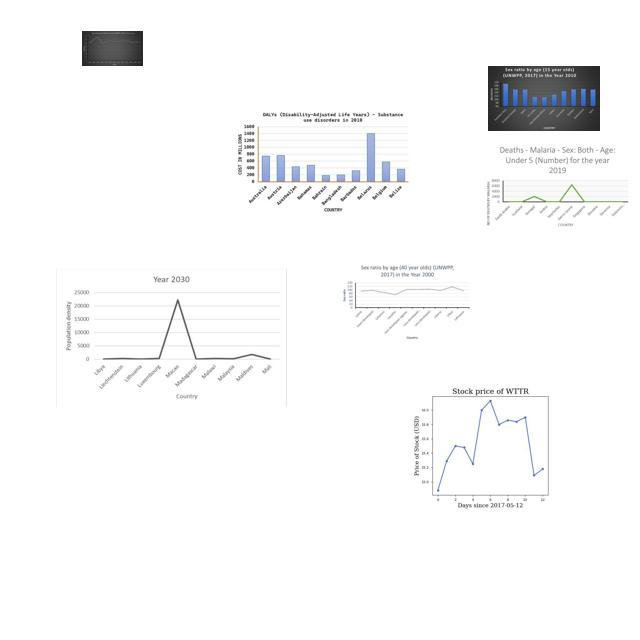Graph: (56, 269, 287, 407), (395, 381, 581, 509), (234, 109, 412, 215), (482, 143, 632, 230), (340, 263, 471, 341), (488, 66, 600, 131), (82, 31, 143, 66)
